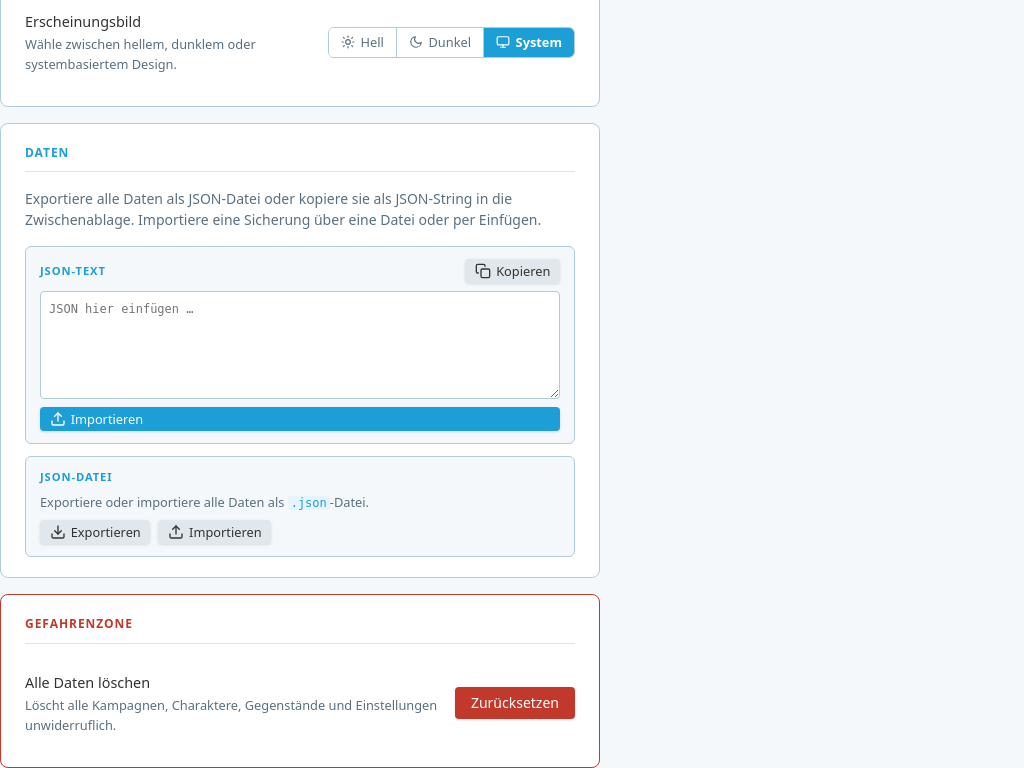
SettingsView › clear all data › clicking "Abbrechen" closes the dialog without clearing storage
The width and height of the screenshot is (1024, 768).
(page scrolled)
Click the button "Zurücksetzen" at (515, 703), box [455, 687, 575, 719]
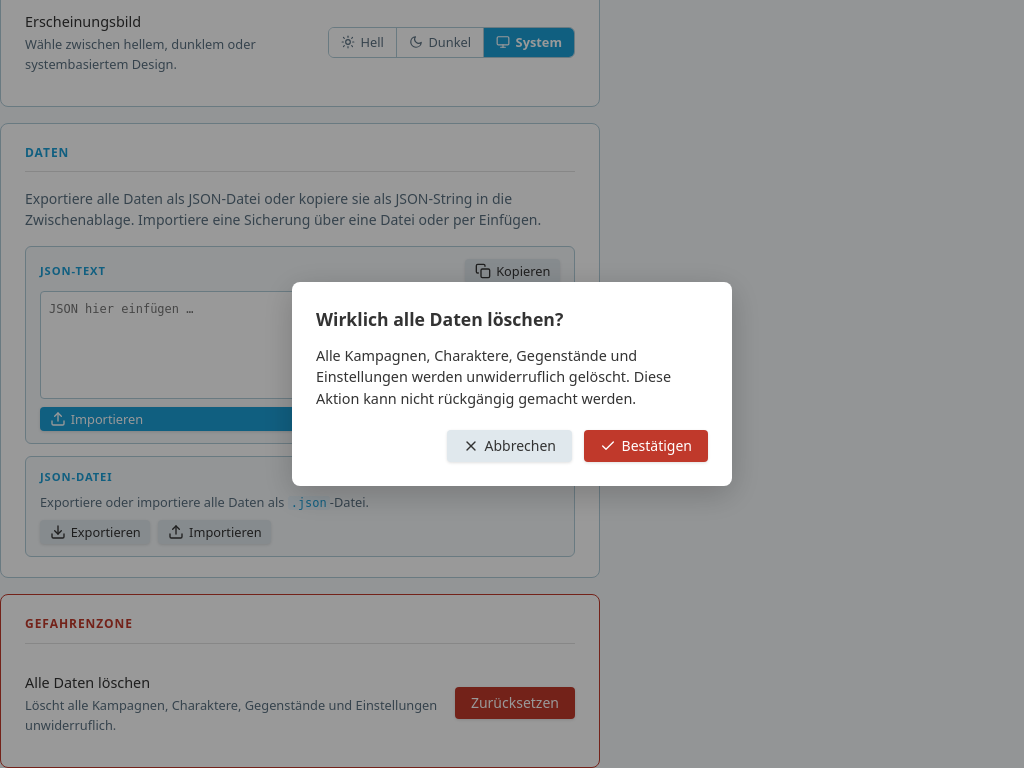
Click the button "Abbrechen" at (509, 446), box [447, 430, 572, 462]
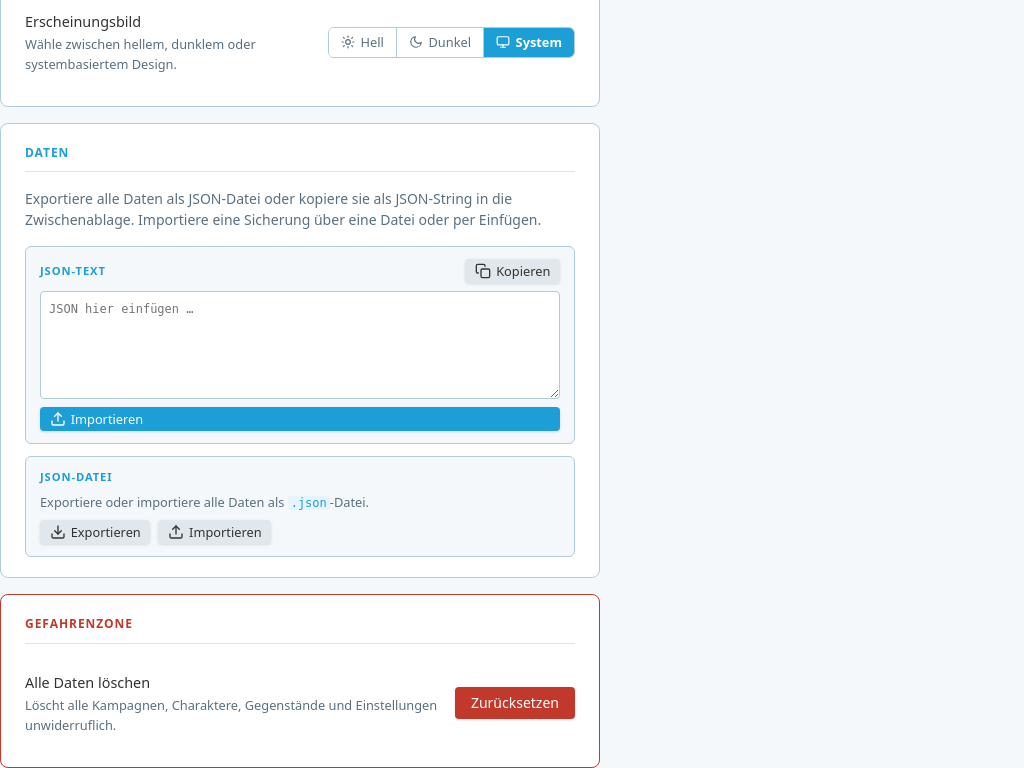
Result: the text "Wirklich alle Daten löschen?" is gone
